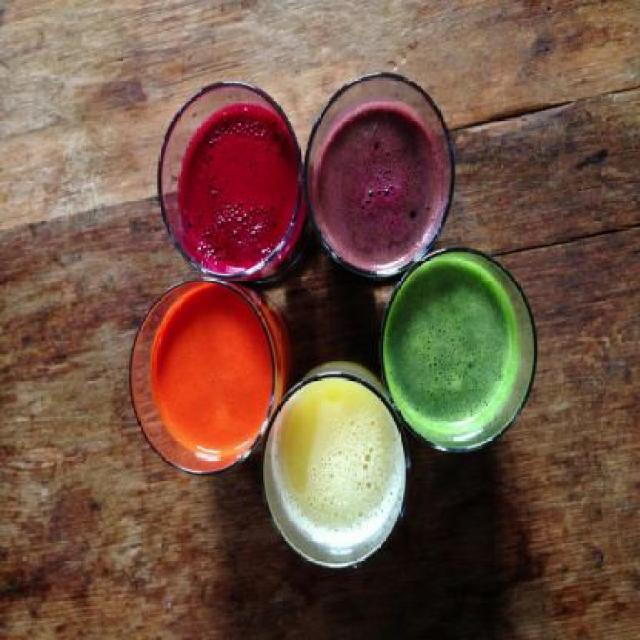Juice: (379, 244, 543, 468), (123, 276, 294, 480), (263, 352, 412, 582), (300, 70, 456, 286), (160, 100, 316, 282)
